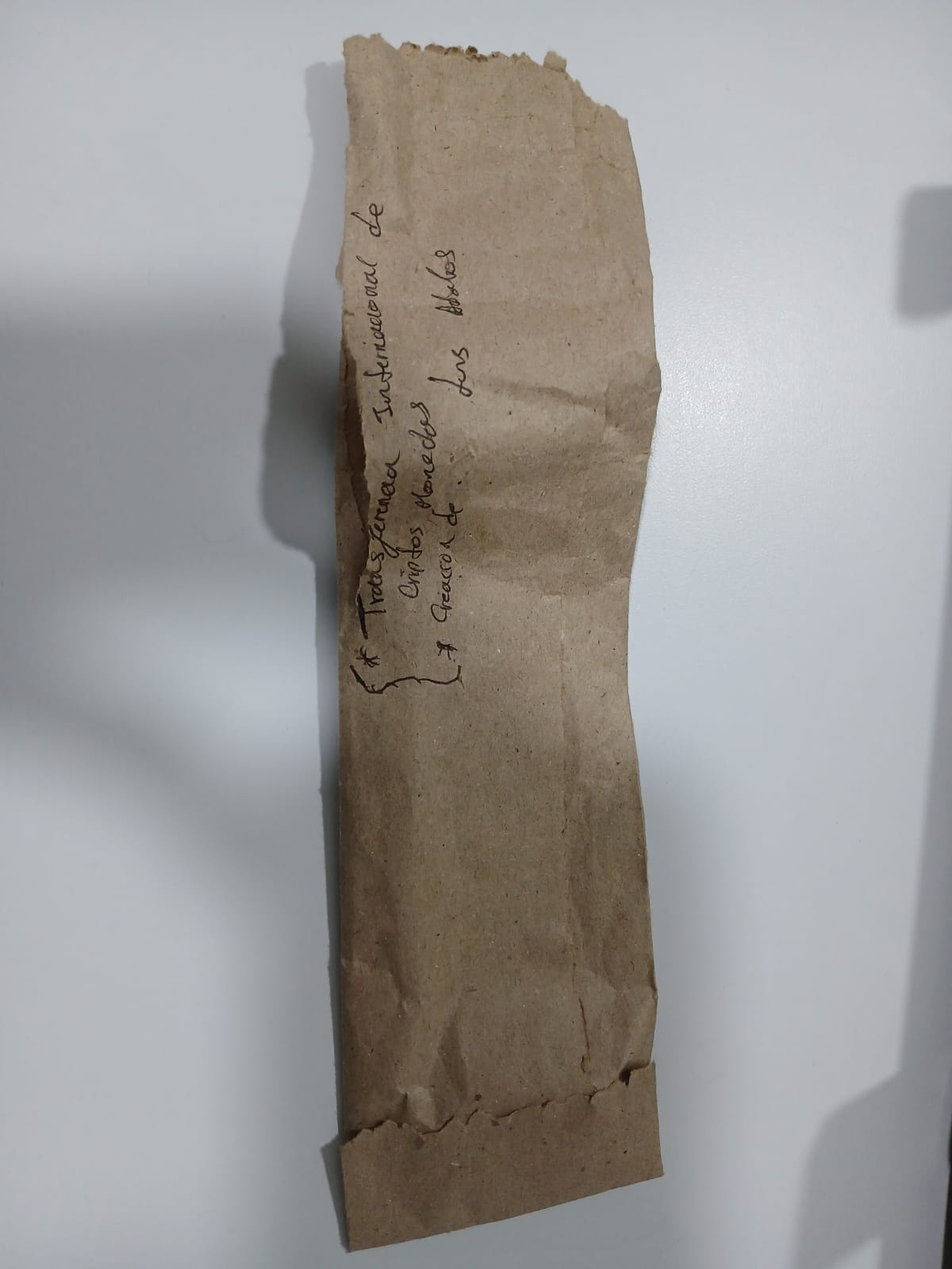Carton: (335, 32, 662, 1251)
